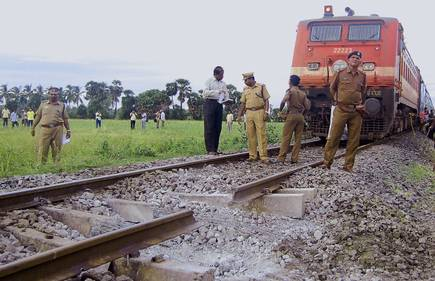crack: (166, 176, 266, 245)
track: (48, 218, 149, 281)
